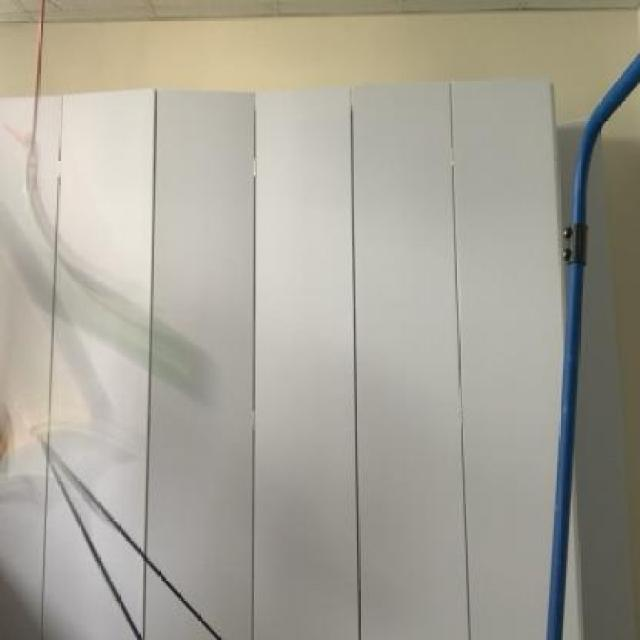baseball: (78, 281, 230, 404)
